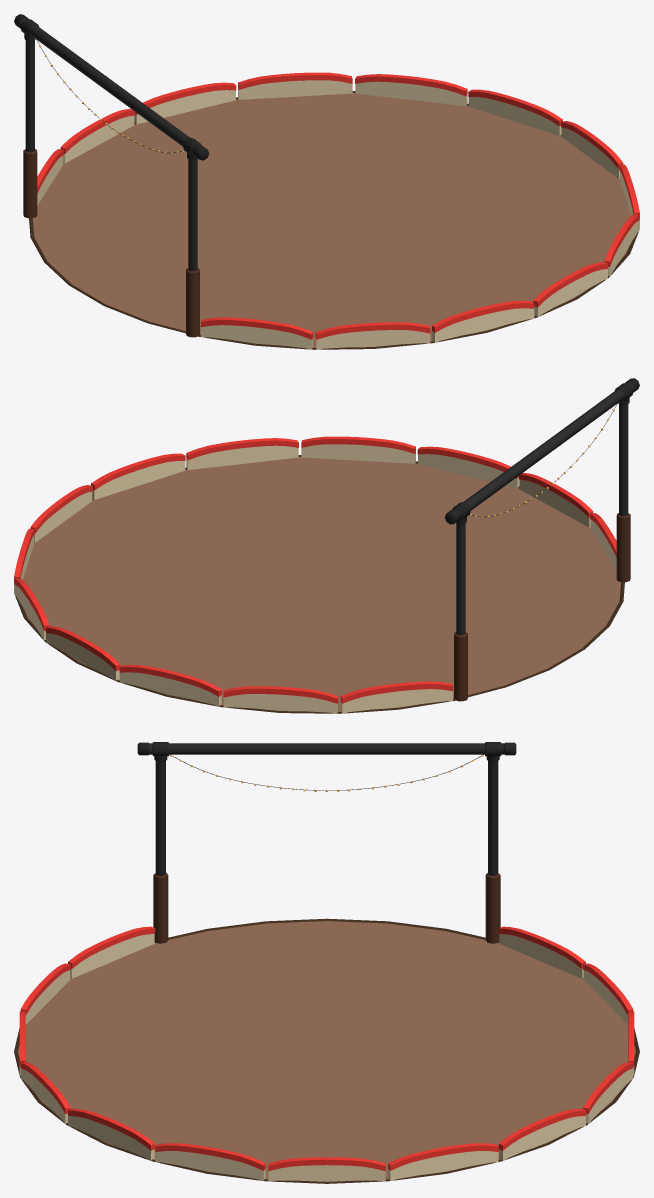
Rendered from LVR_Ring.fbx.
The picture shows the model from 3 angles, top to bottom: view 1: azimuth 30°, elevation 25°; view 2: azimuth 150°, elevation 25°; view 3: azimuth 270°, elevation 25°; orthographic projection. The views are drawn at different scales.
Parts seen in each view (by area): view 1: Ring; view 2: Ring; view 3: Ring.
Part boxes in pixels (x1,y1,x2,y2): Ring: [14, 14, 639, 349]; Ring: [14, 378, 639, 713]; Ring: [14, 742, 639, 1183].
Bounding box in the file's own units: 1388 × 485 × 1388.
